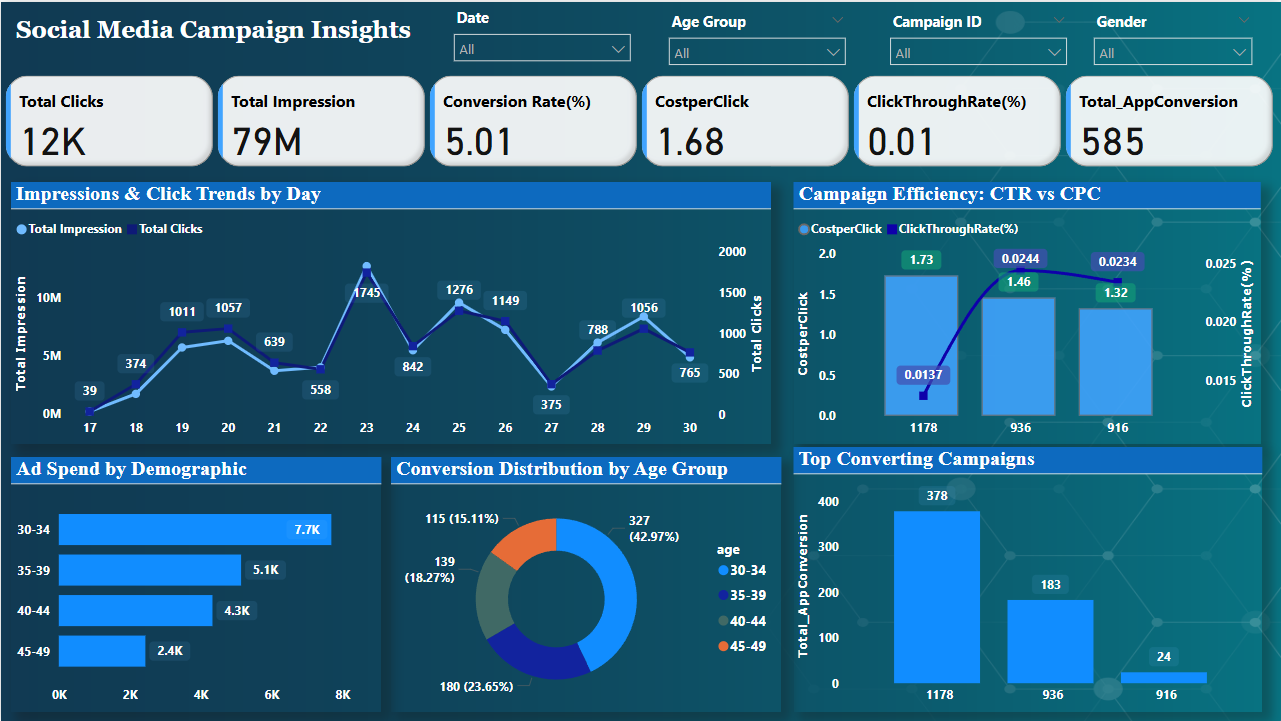

This screenshot's page, from the dashboard's own definition file:
{"tool":"powerbi","page":{"name":"Social Media Ad Campaign","canvas":[1280,720],"ordinal":0},"visuals":[{"type":"textbox","box":[10,8.8,417.5,42.5],"z":0},{"type":"cardVisual","fields":{"Data":["data.Total Clicks","data.Total Impression","data.Conversion Rate(%)","data.CostperClick","data.CTR(%)","data.Total_AppConversion"]},"box":[0,68.8,1280,101.2],"z":1000},{"type":"lineChart","title":"Impressions & Click Trends by Day","fields":{"Category":["data.reporting_start.Variation.Date Hierarchy.Day"],"Y2":["data.Total Clicks"],"Y":["data.Total Impression"]},"box":[10,180,760,262.5],"z":2000},{"type":"lineClusteredColumnComboChart","title":"Campaign Efficiency: CTR vs CPC","fields":{"Category":["data.campaign_id"],"Y":["data.CostperClick"],"Y2":["data.CTR(%)"]},"box":[792.5,180,467.5,262.5],"z":3000},{"type":"barChart","title":"Ad Spend by Demographic","fields":{"Y":["data.Total_Spend"],"Category":["data.age"]},"box":[10,455,370,255],"z":4000},{"type":"donutChart","title":"Conversion Distribution by Age Group","fields":{"Category":["data.age"],"Y":["CountNonNull(data.approved_conversion)"]},"box":[390,455,390,255],"z":5000},{"type":"clusteredColumnChart","title":"Top Converting Campaigns","fields":{"Category":["data.campaign_id"],"Y":["data.Total_AppConversion"]},"box":[792.5,445,468.8,265],"z":7000},{"type":"slicer","fields":{"Values":["data.reporting_start"]},"box":[442.5,0,197.5,65],"z":7001},{"type":"slicer","fields":{"Values":["data.age"]},"box":[657.5,3.8,197.5,65],"z":7002},{"type":"slicer","fields":{"Values":["data.gender"]},"box":[1082.5,3.8,178.8,65],"z":7003},{"type":"slicer","fields":{"Values":["data.campaign_id"]},"box":[878.8,3.8,197.5,65],"z":7004}]}

Visuals, with their boxes in screenshot pixels (x1, y1, x2, y2), scaled from the page's 1280x720 canvas onto the 1281x721 screenshot:
textbox: select_region(10, 9, 428, 51)
cardVisual - data.Total Clicks x data.Total Impression: select_region(0, 69, 1280, 170)
"Impressions & Click Trends by Day" lineChart: select_region(10, 180, 771, 443)
"Campaign Efficiency: CTR vs CPC" lineClusteredColumnComboChart: select_region(793, 180, 1261, 443)
"Ad Spend by Demographic" barChart: select_region(10, 456, 380, 711)
"Conversion Distribution by Age Group" donutChart: select_region(390, 456, 781, 711)
"Top Converting Campaigns" clusteredColumnChart: select_region(793, 446, 1262, 711)
slicer - data.reporting_start: select_region(443, 0, 640, 65)
slicer - data.age: select_region(658, 4, 856, 69)
slicer - data.gender: select_region(1083, 4, 1262, 69)
slicer - data.campaign_id: select_region(879, 4, 1077, 69)
